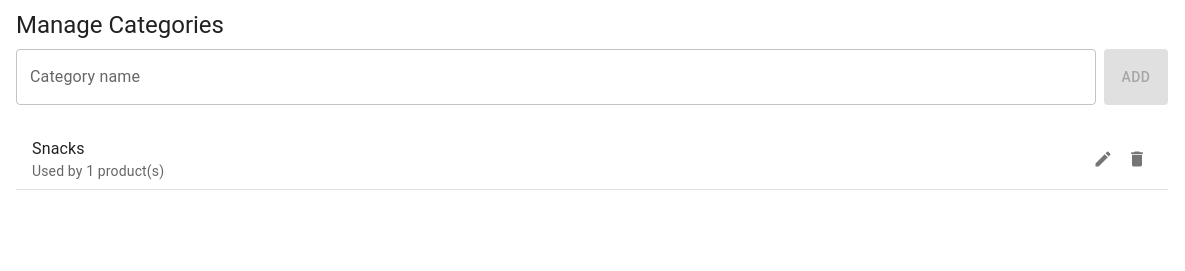
Test: ManageCategoriesScreen deletion safeguards › shows an error when trying to delete an in-use category
Click the button named "delete snacks": (1137, 159) [1122,144,1152,174]
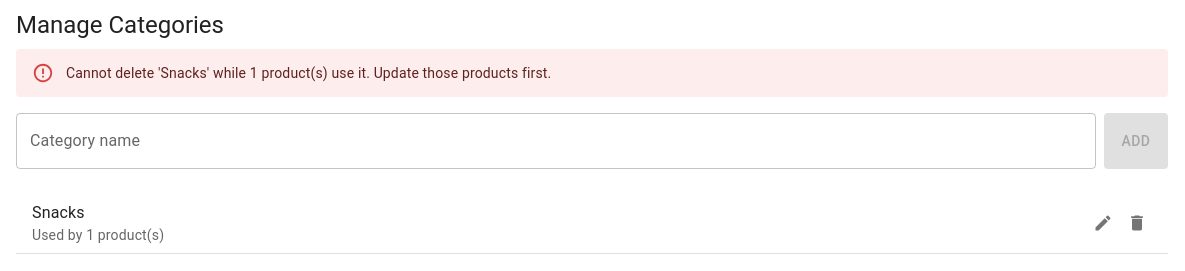
Expected: the text "Cannot delete 'Snacks' while 1 product(s) use it" is shown, [66,65,551,81]
